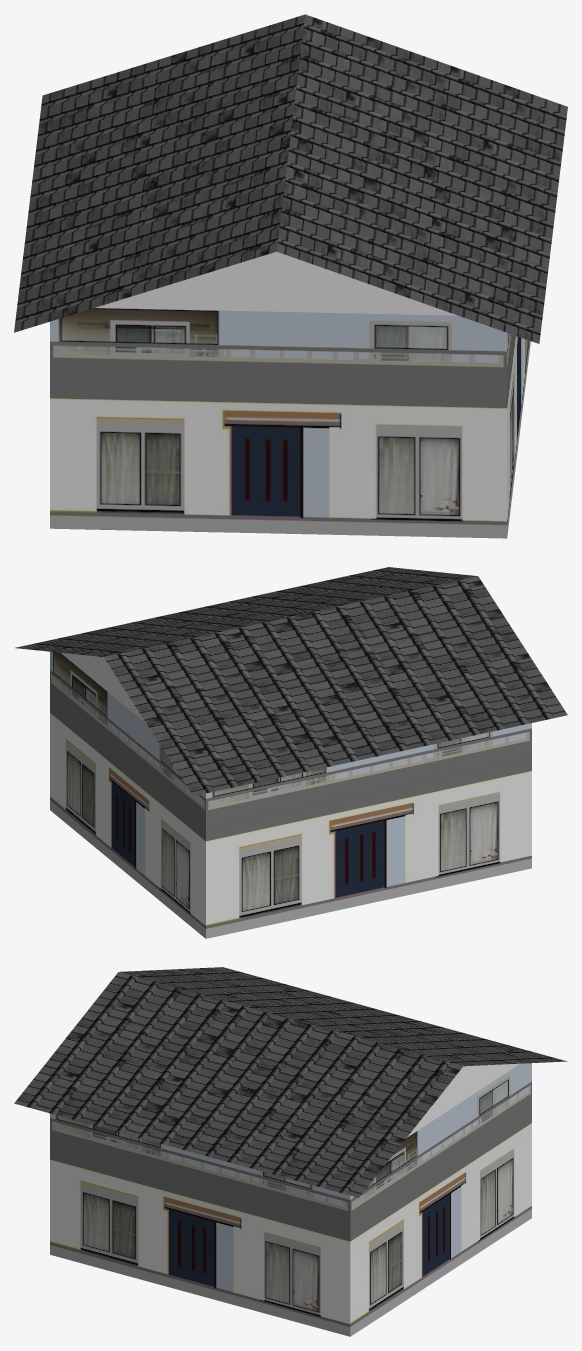
3 views of the same model, one above another, from view 1: azimuth 30°, elevation 25°; view 2: azimuth 150°, elevation 25°; view 3: azimuth 270°, elevation 25° (orthographic). The views are drawn at different scales.
Parts seen in each view (by area): view 1: CityEngineMaterial_8_m, CityEngineMaterial_7_m, CityEngineMaterial_3_m; view 2: CityEngineMaterial_7_m, CityEngineMaterial_8_m, CityEngineMaterial_3_m; view 3: CityEngineMaterial_7_m, CityEngineMaterial_8_m, CityEngineMaterial_3_m.
Boxes of the visible parts, x1,y1,x2,y2 form: CityEngineMaterial_8_m: (14,14,567,343); CityEngineMaterial_7_m: (50,308,530,538); CityEngineMaterial_3_m: (95,251,457,315); CityEngineMaterial_7_m: (50,651,531,938); CityEngineMaterial_8_m: (15,567,567,795); CityEngineMaterial_3_m: (61,653,146,723); CityEngineMaterial_7_m: (50,1063,531,1336); CityEngineMaterial_8_m: (14,967,567,1197); CityEngineMaterial_3_m: (407,1063,519,1137).
Size of the model in its own units: 20.56 by 9.03 by 20.86.
